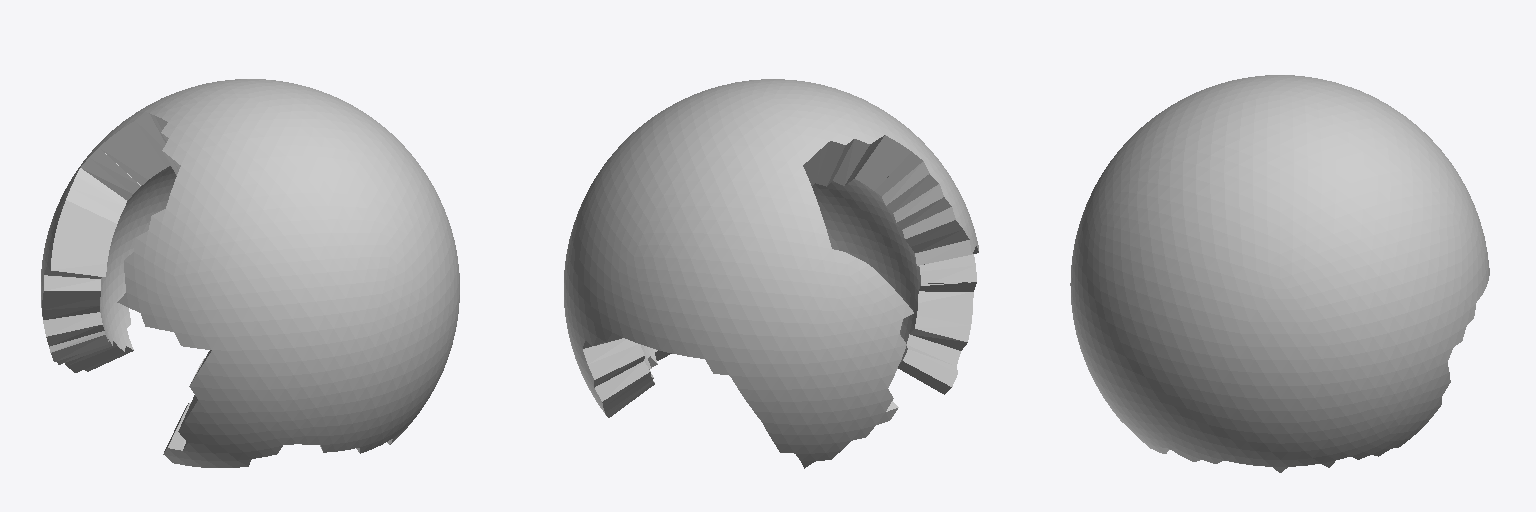
Rendered from clouds_5.obj.
The picture shows the model from 3 angles: view 1: azimuth 30°, elevation 25°; view 2: azimuth 150°, elevation 25°; view 3: azimuth 270°, elevation 25°; orthographic projection.
Visible parts, largest first — view 1: Icosphere.030; view 2: Icosphere.030; view 3: Icosphere.030.
Part boxes in pixels (left/top/right/bottom): Icosphere.030: left=41, top=79, right=459, bottom=467; Icosphere.030: left=564, top=79, right=978, bottom=468; Icosphere.030: left=1070, top=75, right=1489, bottom=472.
Bounding box in the file's own units: 21 × 18.09 × 21.63.